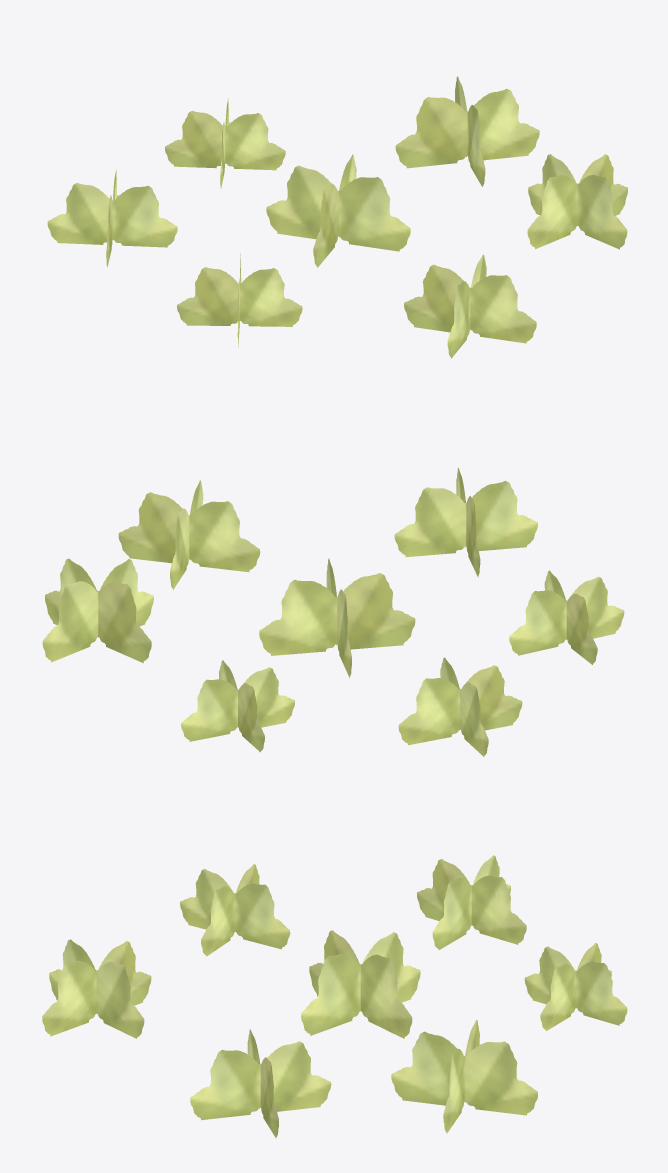
The model's file is crop_lettuce_1.glb.
3 renders of one model, top to bottom at view 1: azimuth 30°, elevation 25°; view 2: azimuth 150°, elevation 25°; view 3: azimuth 270°, elevation 25°, orthographic. The views are drawn at different scales.
Parts seen in each view (by area): view 1: crop_lettuce_1; view 2: crop_lettuce_1; view 3: crop_lettuce_1.
Boxes of the visible parts, bbox=[...] form: crop_lettuce_1: bbox=[47, 76, 627, 358]; crop_lettuce_1: bbox=[42, 468, 624, 756]; crop_lettuce_1: bbox=[42, 855, 627, 1138].
Bounding box in the file's own units: 0.7162 × 0.1376 × 0.7363.
Materials: 1 (1 with a texture image).
